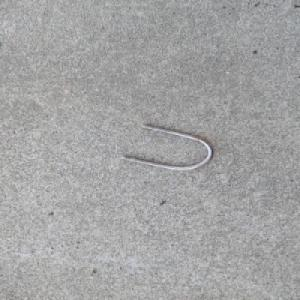ClampPart: (119, 122, 216, 171)
